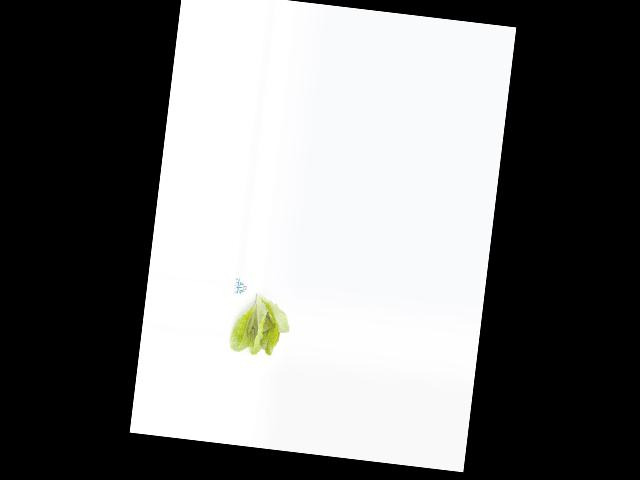lettuce: (229, 290, 294, 360)
